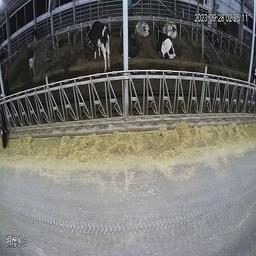cow: (84, 23, 113, 70), (155, 33, 175, 59), (134, 19, 152, 39), (162, 16, 179, 34), (207, 27, 222, 47), (31, 25, 41, 49)
